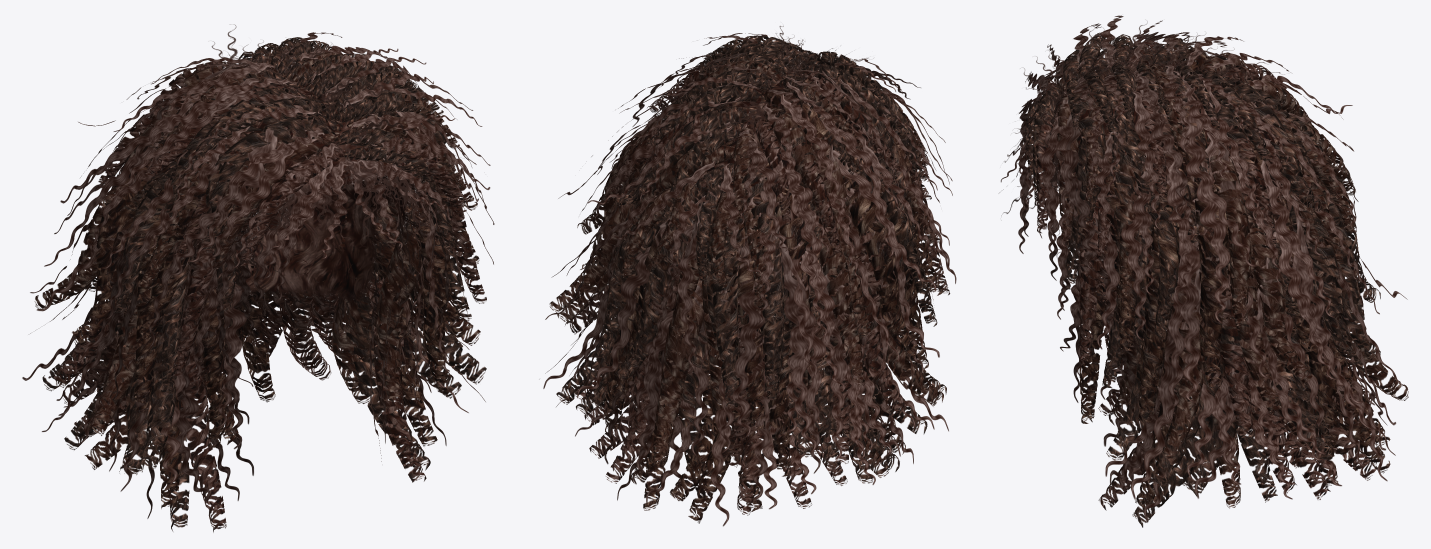
Rendered from curly_hair_1_beatrice_-_character_hair_free.glb.
3 renders of one model, left to right at view 1: azimuth 30°, elevation 25°; view 2: azimuth 150°, elevation 25°; view 3: azimuth 270°, elevation 25°, orthographic. The views are drawn at different scales.
Visible parts, largest first — view 1: Hair_BEA, HairCap_BEA; view 2: Hair_BEA, HairCap_BEA; view 3: Hair_BEA, HairCap_BEA.
Boxes of the visible parts, x1,y1,x2,y2 form: Hair_BEA: (22,24,494,532); HairCap_BEA: (175,72,411,304); Hair_BEA: (543,26,956,526); HairCap_BEA: (668,66,874,331); Hair_BEA: (999,15,1408,527); HairCap_BEA: (1051,60,1285,278).
Bounding box in the file's own units: 0.3693 × 0.3625 × 0.3215.
2 materials, 2 textured.
